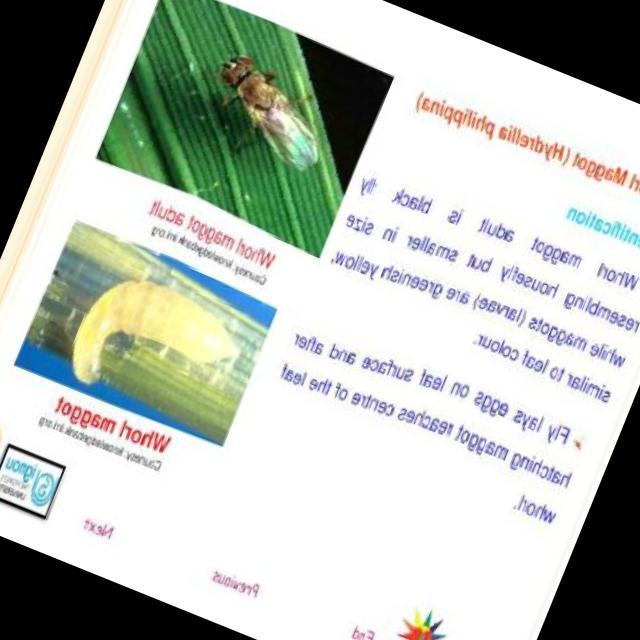whorl-maggot: (49, 246, 266, 442)
